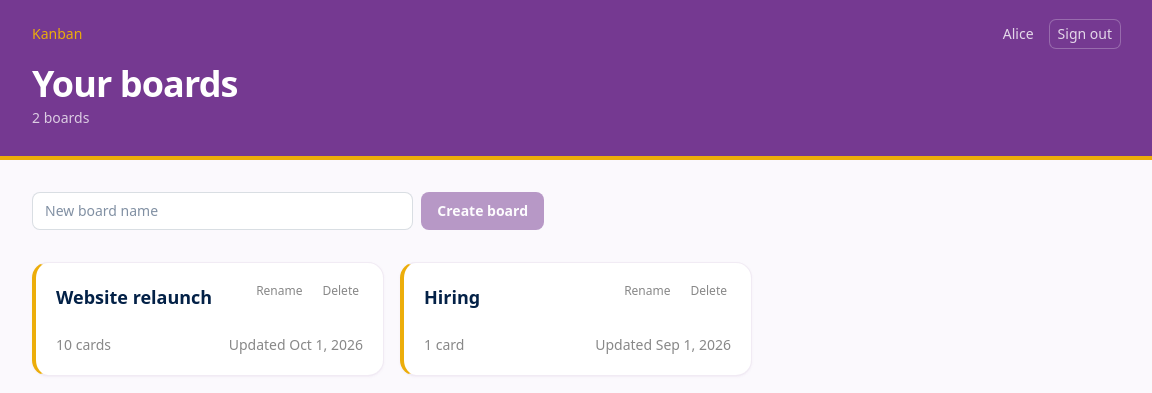
Test: BoardList › deletes a board after confirmation
Click the button with aria-label "Delete Hiring".
click(709, 291)  # box x1=682 y1=279 x2=735 y2=303
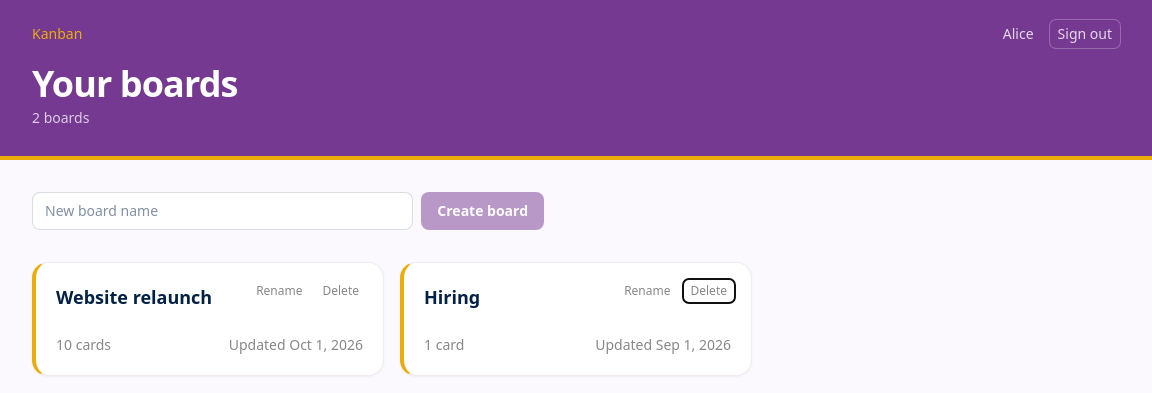
Click the button with aria-label "Delete Hiring".
click(709, 291)  # box x1=682 y1=279 x2=735 y2=303
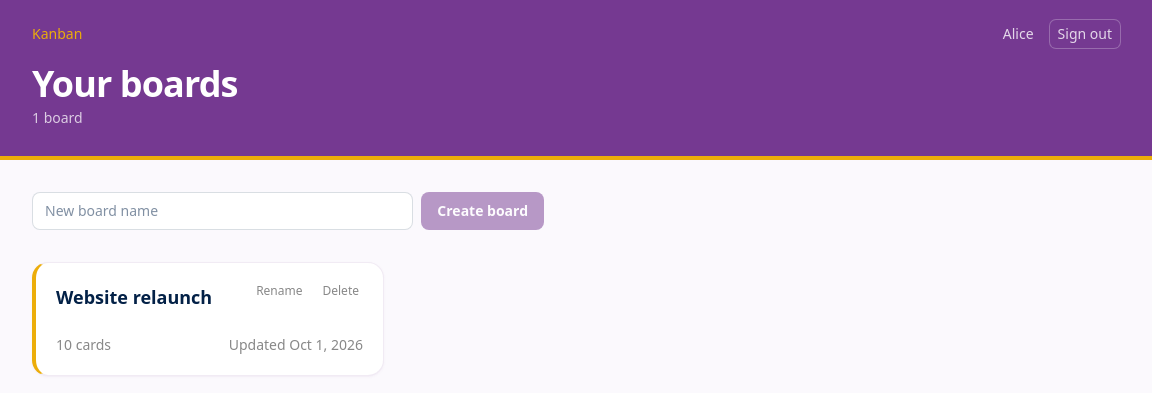
Check: the link "Hiring" is gone
Check: the text "1 board" is shown, box x1=32 y1=108 x2=83 y2=127
